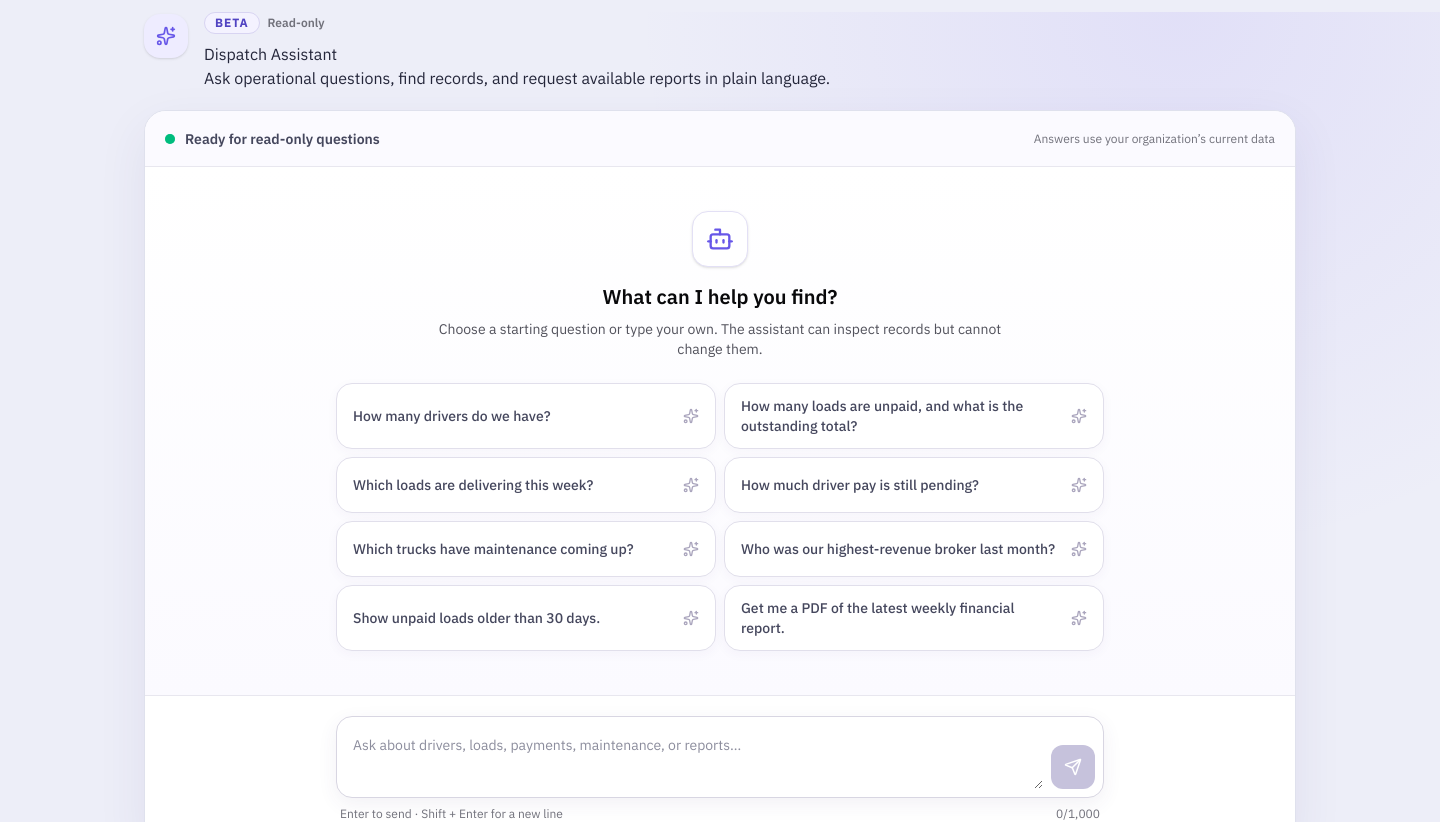
Test: DispatchAssistant › does not offer an immediate retry for a 401 unauthorized response
Click the button "How many drivers do we have?": (526, 416) top-left (336, 383), bottom-right (716, 449)
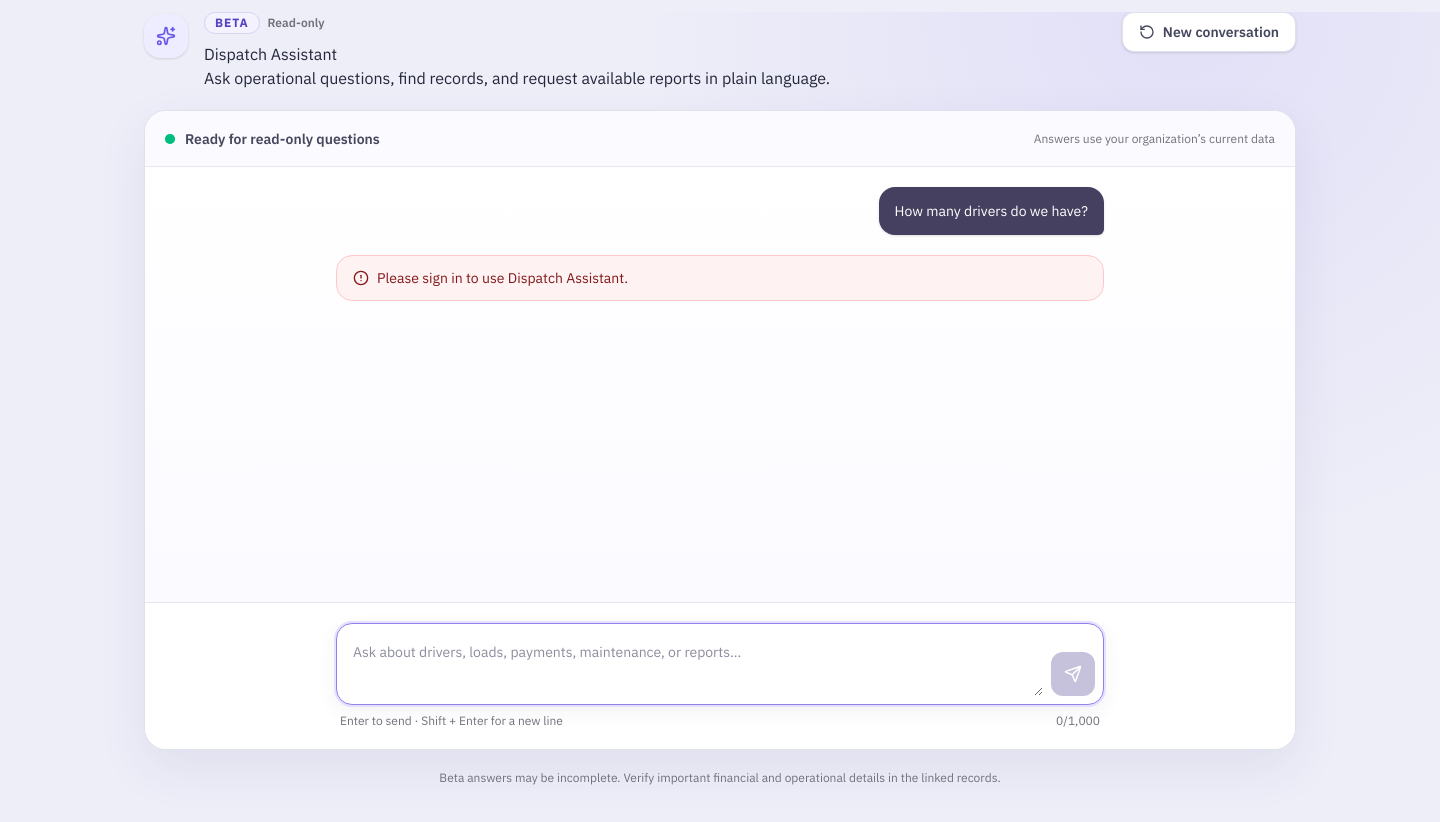
expect the text "Please sign in to use Dispatch Assistant." is shown: met, box top-left (377, 268), bottom-right (628, 288)
